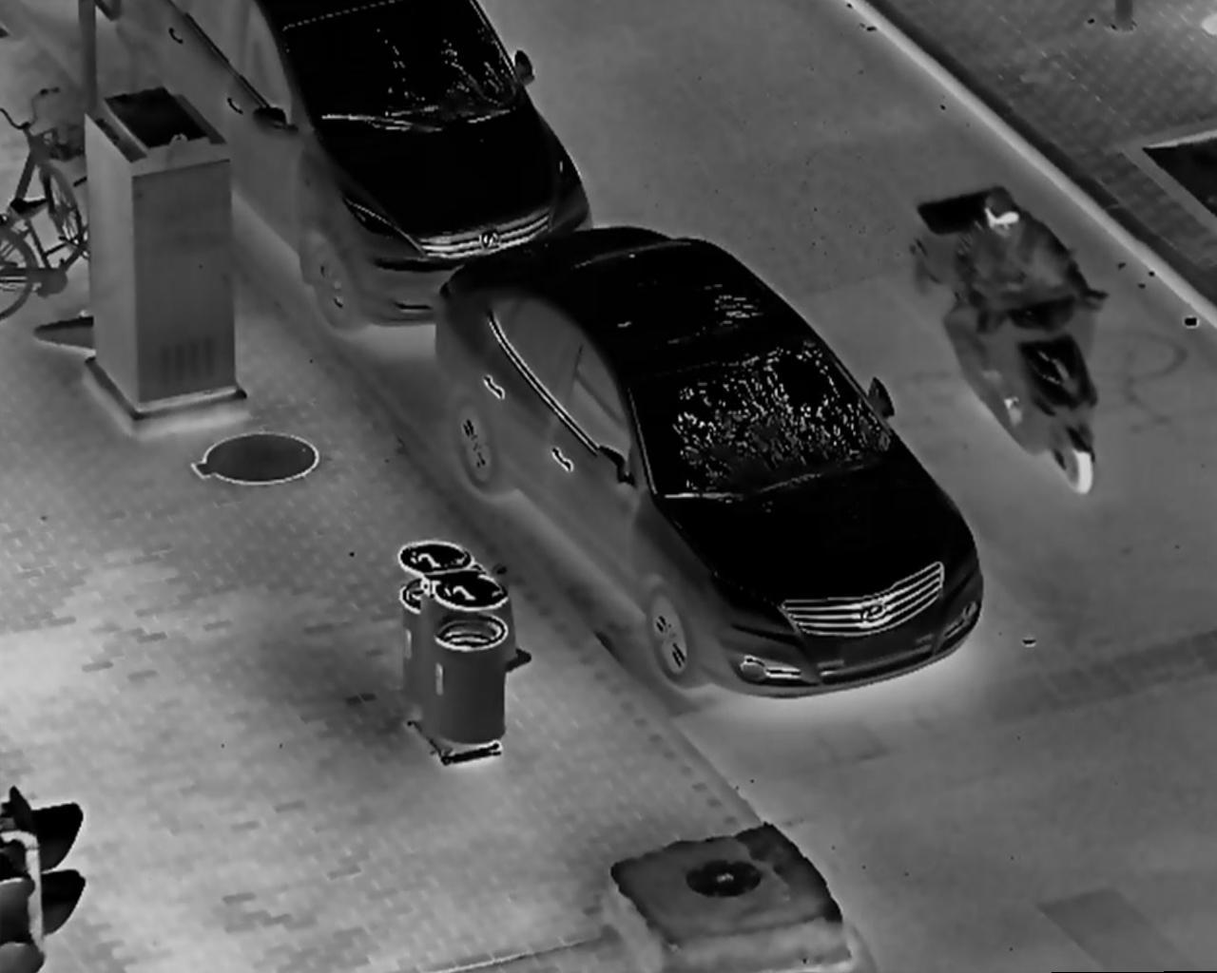person: (953, 183, 1106, 469)
